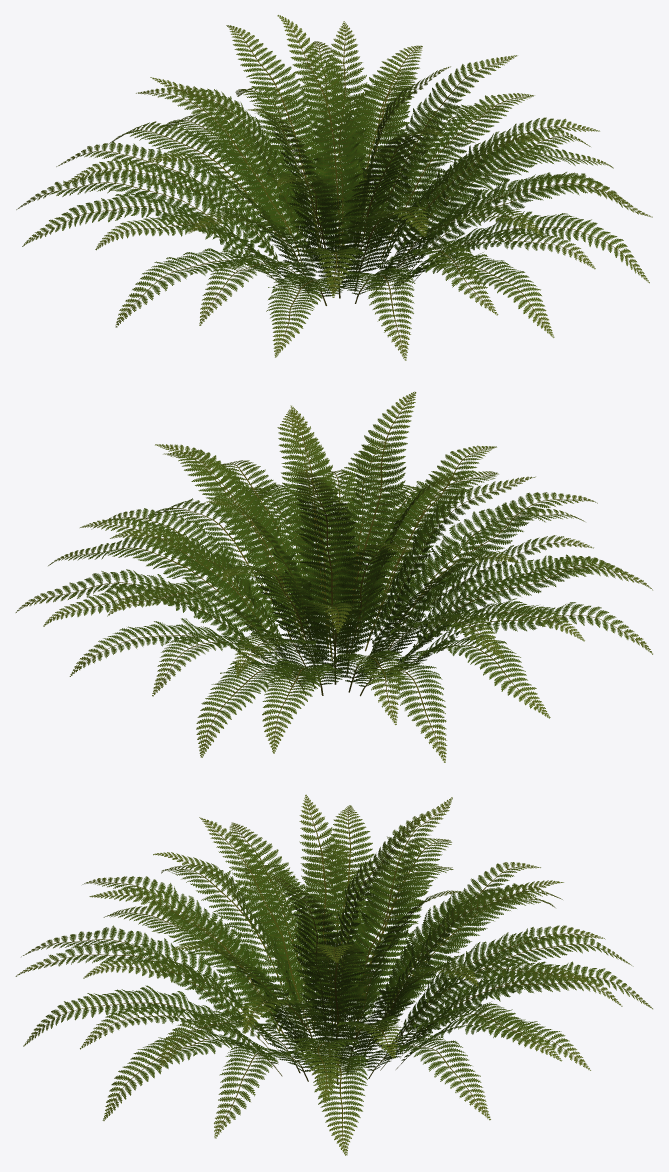
Rendered from matteuccia_struthiopteris_b001.gltf.
3 renders of one model, top to bottom at view 1: azimuth 30°, elevation 25°; view 2: azimuth 150°, elevation 25°; view 3: azimuth 270°, elevation 25°, orthographic.
Visible parts, largest first — view 1: Matteuccia_struthiopteris__B001; view 2: Matteuccia_struthiopteris__B001; view 3: Matteuccia_struthiopteris__B001.
Part boxes in pixels (bbox=[...]): Matteuccia_struthiopteris__B001: bbox=[16, 15, 652, 360]; Matteuccia_struthiopteris__B001: bbox=[15, 391, 652, 762]; Matteuccia_struthiopteris__B001: bbox=[15, 794, 652, 1155].
Size of the model in its own units: 2.39 by 0.9675 by 2.38.
1 material, 1 textured.
